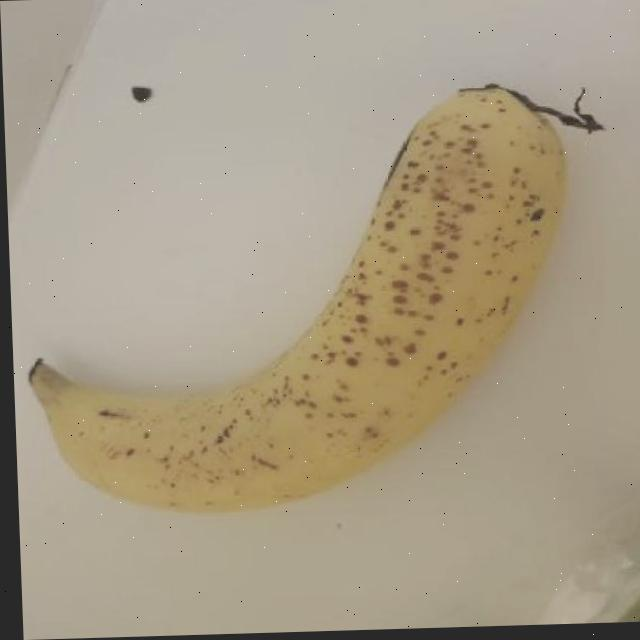banana: (14, 75, 609, 525)
